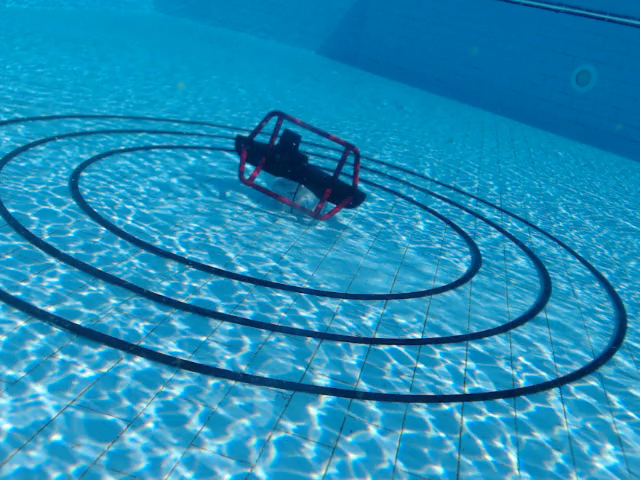submarine: (232, 109, 369, 222)
